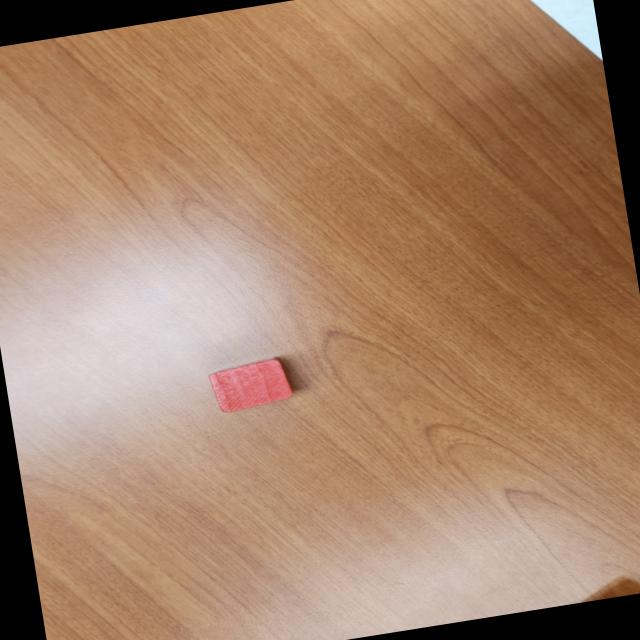red: (206, 354, 299, 416)
